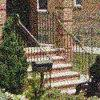stairs: (24, 44, 84, 92)
